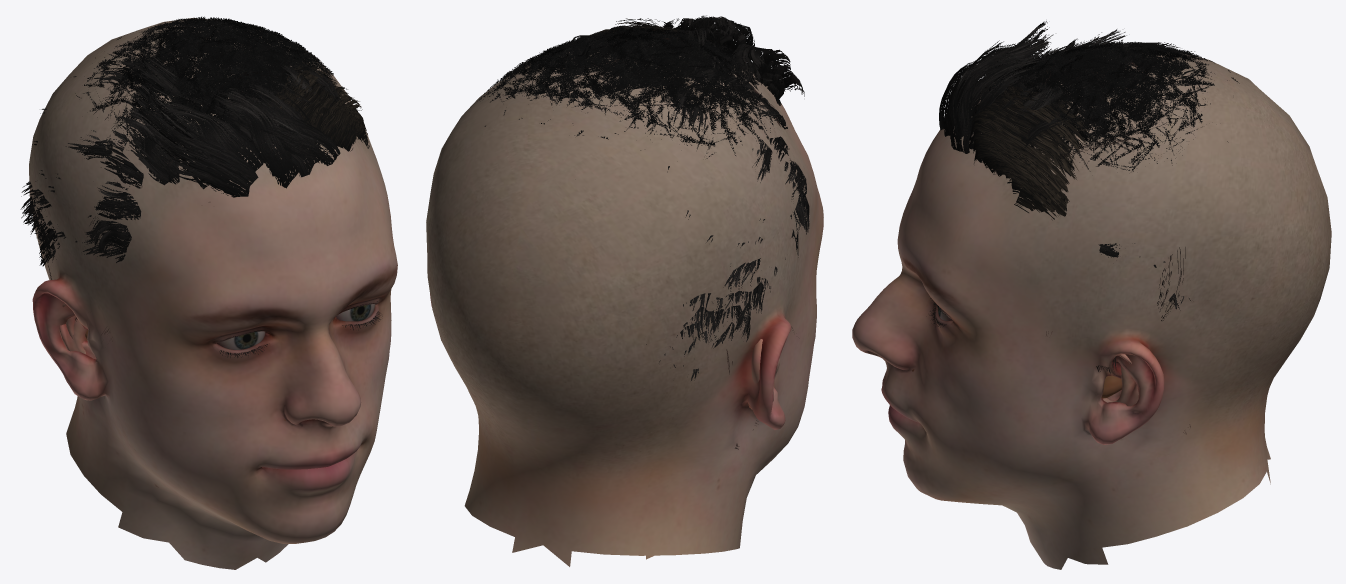
Rendered from cabezas.glb.
The picture shows the model from 3 angles, left to right: view 1: azimuth 30°, elevation 25°; view 2: azimuth 150°, elevation 25°; view 3: azimuth 270°, elevation 25°; orthographic projection. The views are drawn at different scales.
Parts seen in each view (by area): view 1: c01_Ch01_body, josh_Ch23_hair, c28_Ch28_hair, leo_Ch31_hair, leo_Ch31_body; view 2: c01_Ch01_body, c28_Ch28_hair, josh_Ch23_hair; view 3: c01_Ch01_body, c28_Ch28_hair, leo_Ch31_hair, josh_Ch23_hair, c42_Ch42_Hair, leo_Ch31_body.
Boxes of the visible parts, x1=… form: c01_Ch01_body: x1=29, y1=17, x2=397, y2=569; josh_Ch23_hair: x1=20, y1=20, x2=341, y2=266; c28_Ch28_hair: x1=75, y1=16, x2=342, y2=147; leo_Ch31_hair: x1=240, y1=59, x2=369, y2=151; leo_Ch31_body: x1=59, y1=303, x2=87, y2=354; c01_Ch01_body: x1=426, y1=46, x2=823, y2=566; c28_Ch28_hair: x1=477, y1=26, x2=766, y2=158; josh_Ch23_hair: x1=484, y1=15, x2=809, y2=380; c01_Ch01_body: x1=852, y1=54, x2=1331, y2=569; c28_Ch28_hair: x1=974, y1=41, x2=1239, y2=171; leo_Ch31_hair: x1=969, y1=72, x2=1100, y2=220; josh_Ch23_hair: x1=939, y1=21, x2=1228, y2=310; c42_Ch42_Hair: x1=977, y1=62, x2=1190, y2=434; leo_Ch31_body: x1=1103, y1=354, x2=1138, y2=406.
Size of the model in its own units: 21.75 by 32.52 by 28.15.
14 materials, 14 textured.
